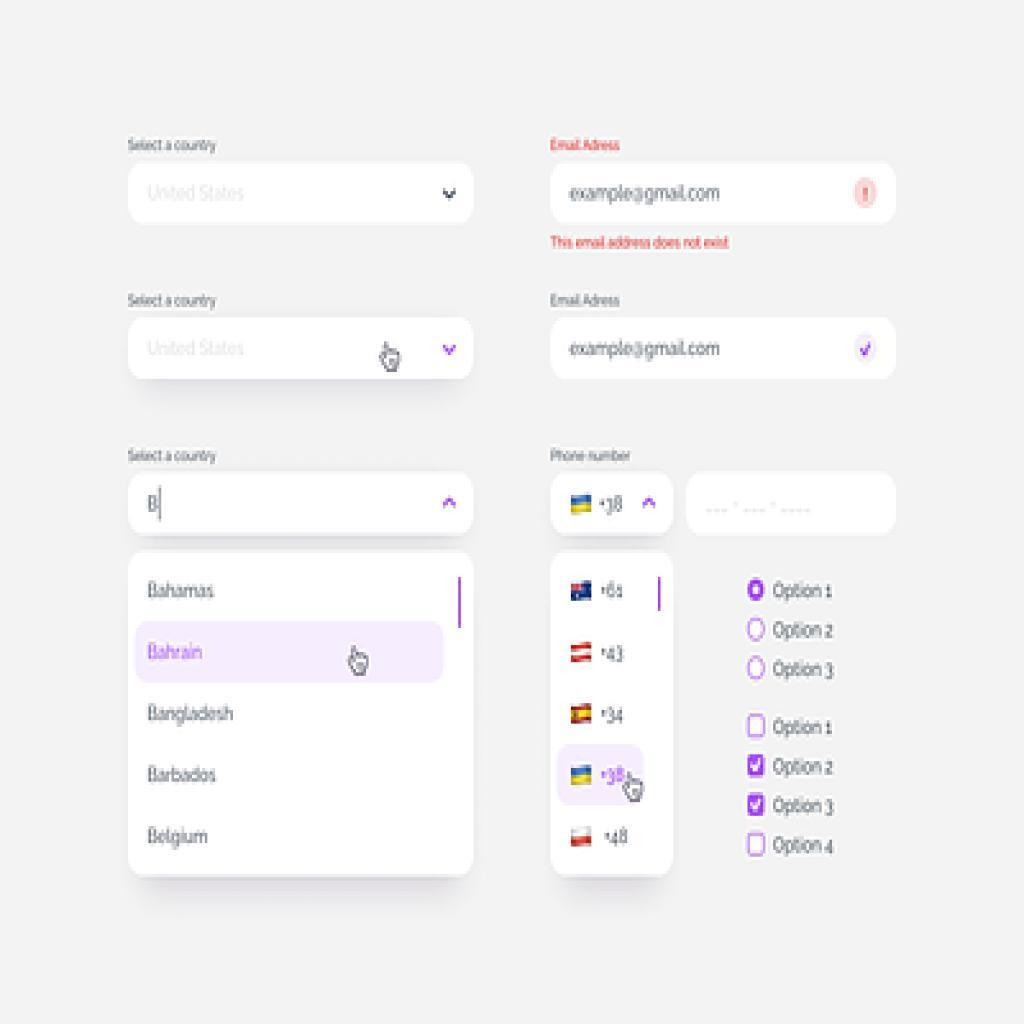checkbox: (748, 755, 767, 779), (749, 833, 767, 858), (748, 794, 766, 817), (749, 714, 766, 738)
dropdown: (125, 316, 477, 383), (125, 471, 473, 536), (130, 163, 473, 225), (545, 474, 675, 539)
input: (547, 162, 900, 232), (553, 321, 904, 382), (686, 472, 900, 542)
radio: (747, 577, 769, 605), (747, 616, 768, 644), (747, 656, 768, 684)
